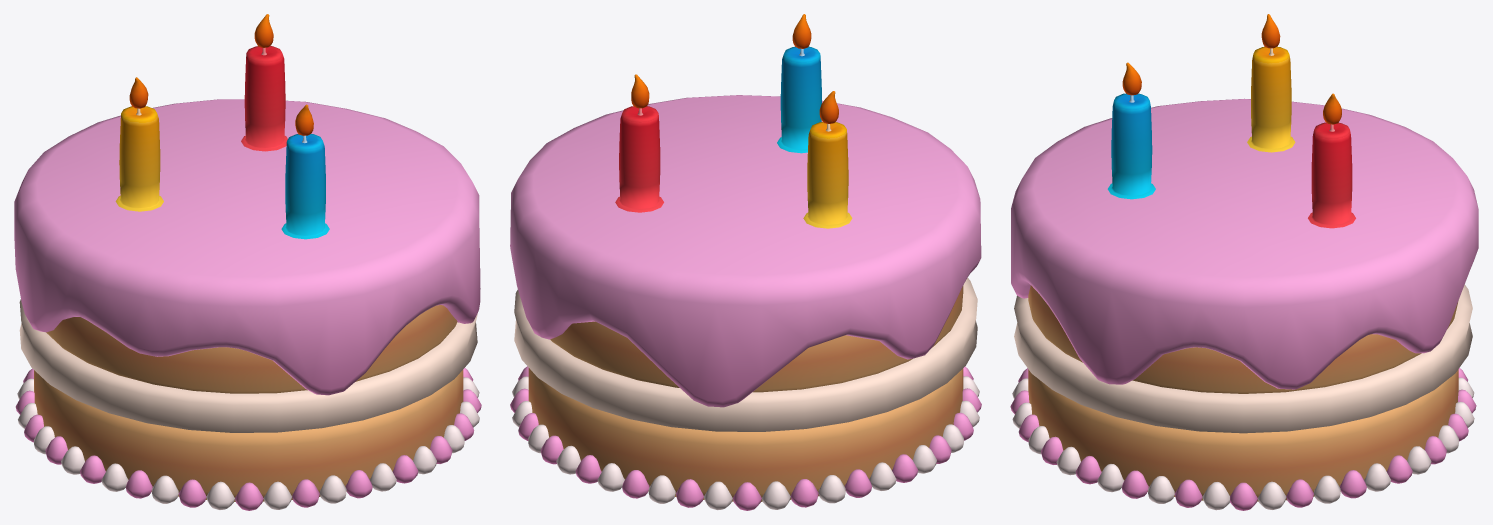
The model's file is Cake_Cherry_V3_00.fbx.
3 views of the same model, side by side, from view 1: azimuth 30°, elevation 25°; view 2: azimuth 150°, elevation 25°; view 3: azimuth 270°, elevation 25° (orthographic).
Visible parts, largest first — view 1: Cake_Cherry_V3_00; view 2: Cake_Cherry_V3_00; view 3: Cake_Cherry_V3_00.
Part boxes in pixels (x1,y1,x2,y2): Cake_Cherry_V3_00: (14, 14, 481, 510); Cake_Cherry_V3_00: (510, 14, 981, 510); Cake_Cherry_V3_00: (1010, 14, 1478, 510).
Bounding box in the file's own units: 65.77 × 55.09 × 65.84.
